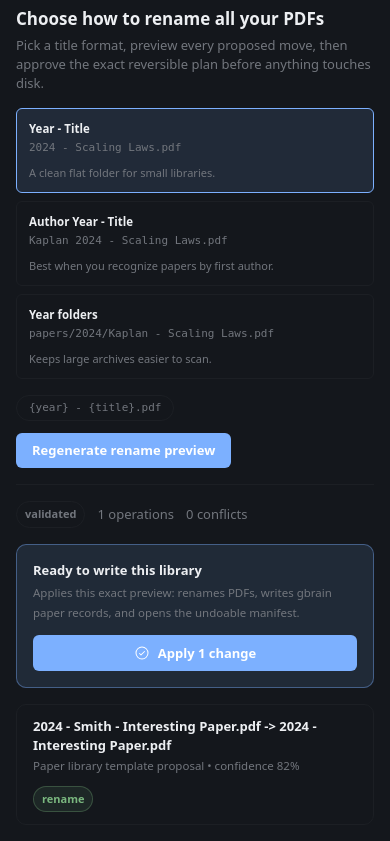
Test: PaperLibraryCommandCenter › disables applying when the approval token is already expired
(page scrolled)
Expected: the text "1 operations" is shown, [98,505,174,524]
Click the button "Apply 1 change" at (195, 653), box [33,635,357,671]
(page scrolled)
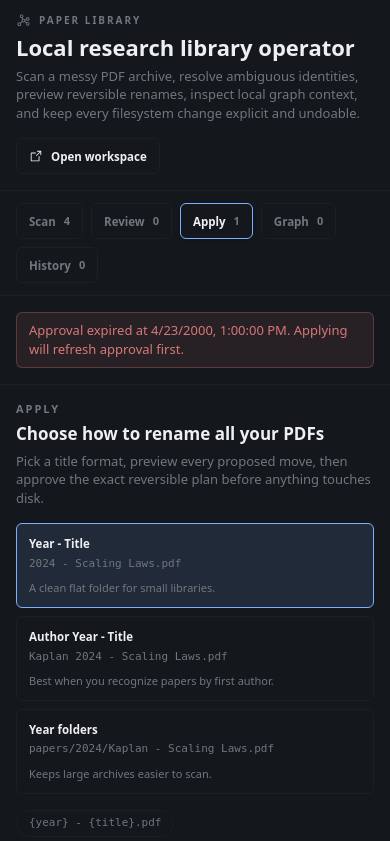
Now the message shows "Approval expired at", box [29,322,347,358]
Now the message shows "Applying will refresh approval first", box [29,322,347,358]
